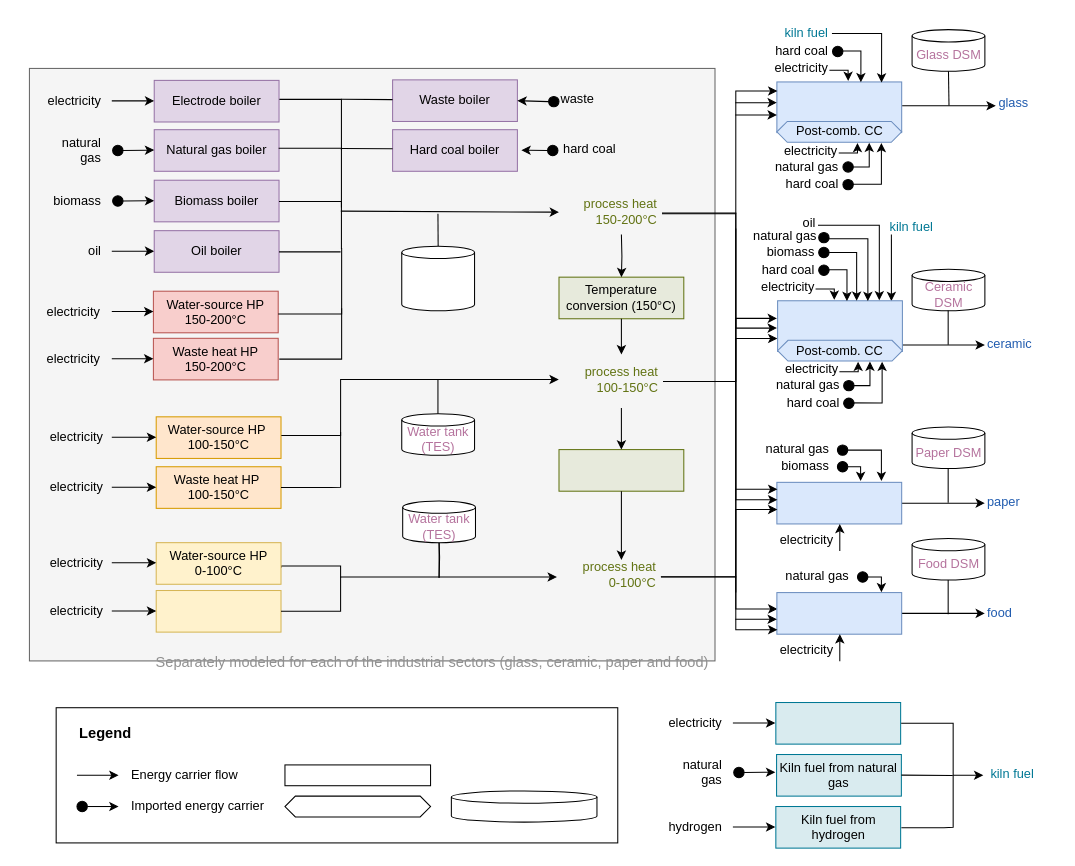
The diagram is 1075 pixels wide and 866 high, and some of its shapes have lost their labels. Each missing label, with the box of its shape:
Ceramic production: (777, 300, 902, 351)
Conversion technology: (284, 764, 431, 786)
Food production: (776, 592, 902, 634)
Glass production: (776, 81, 902, 133)
Kiln fuel from electricity: (775, 701, 901, 744)
Paper production: (776, 481, 902, 524)
Retrofit technology: (284, 795, 431, 817)
Steam accumulator (TES): (401, 245, 475, 311)
Storage technology: (450, 790, 597, 822)
Temperature conversion (100°C): (558, 449, 684, 491)
Waste heat HP 0-100°C: (155, 589, 281, 632)
